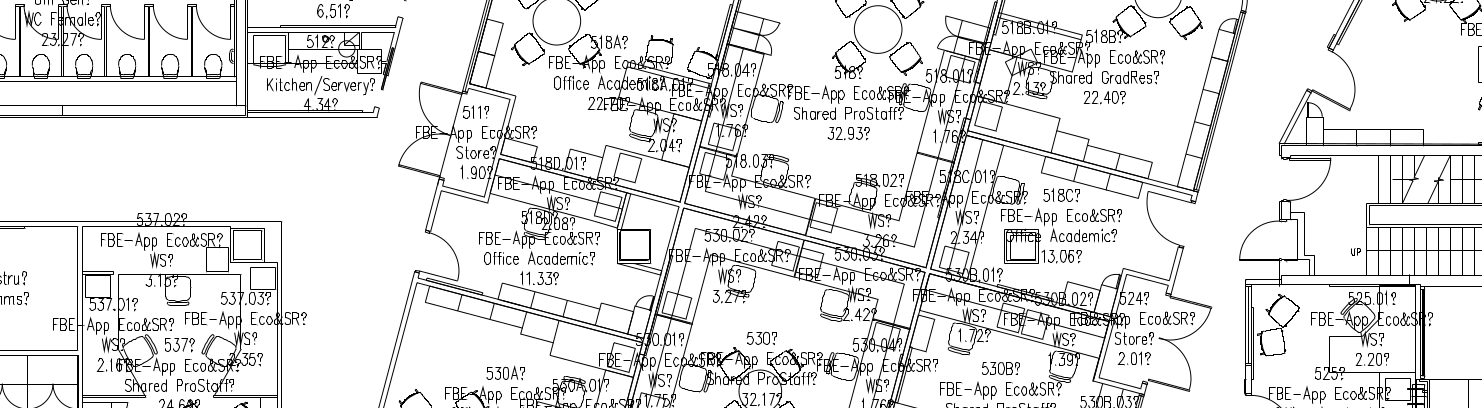door: (384, 76, 459, 184), (1142, 285, 1213, 396), (1303, 46, 1367, 113), (1130, 190, 1197, 253), (412, 220, 471, 284), (1273, 156, 1333, 209), (1220, 215, 1280, 268), (195, 1, 234, 49), (152, 1, 191, 49), (108, 1, 147, 49), (64, 1, 103, 49)
